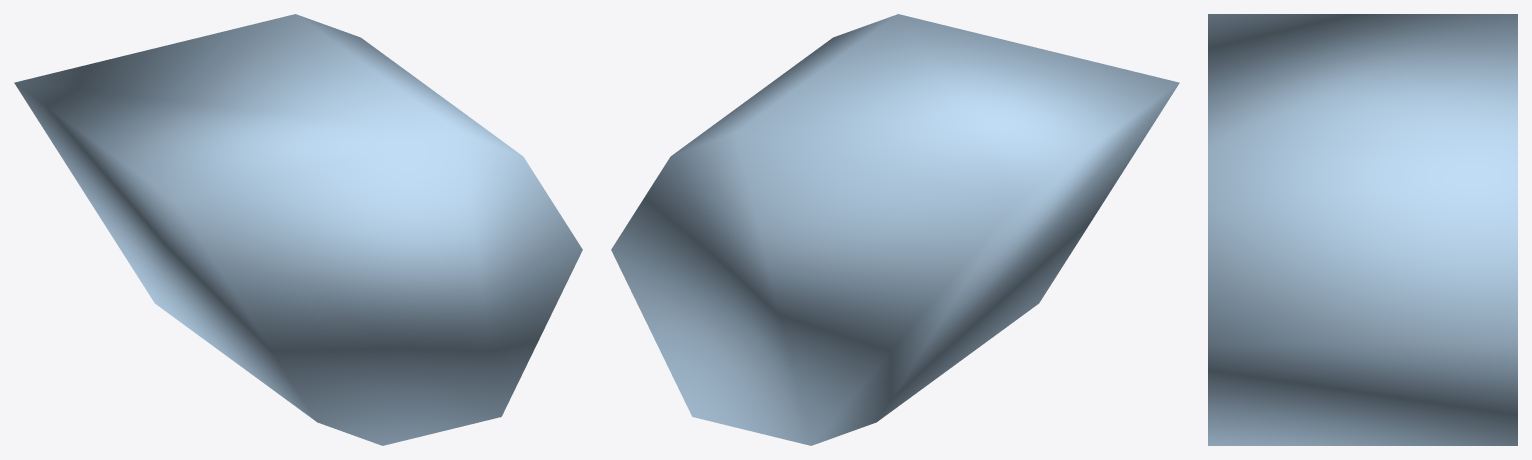
Rendered from beryl.glb.
3 renders of one model, left to right at view 1: azimuth 30°, elevation 25°; view 2: azimuth 150°, elevation 25°; view 3: azimuth 270°, elevation 25°, orthographic. The views are drawn at different scales.
Visible parts, largest first — view 1: beryl; view 2: beryl; view 3: beryl.
Boxes of the visible parts, bbox=[...] form: beryl: bbox=[14, 14, 582, 445]; beryl: bbox=[611, 14, 1179, 445]; beryl: bbox=[1208, 14, 1517, 445].
Bounding box in the file's own units: 2.89 × 2 × 2.
